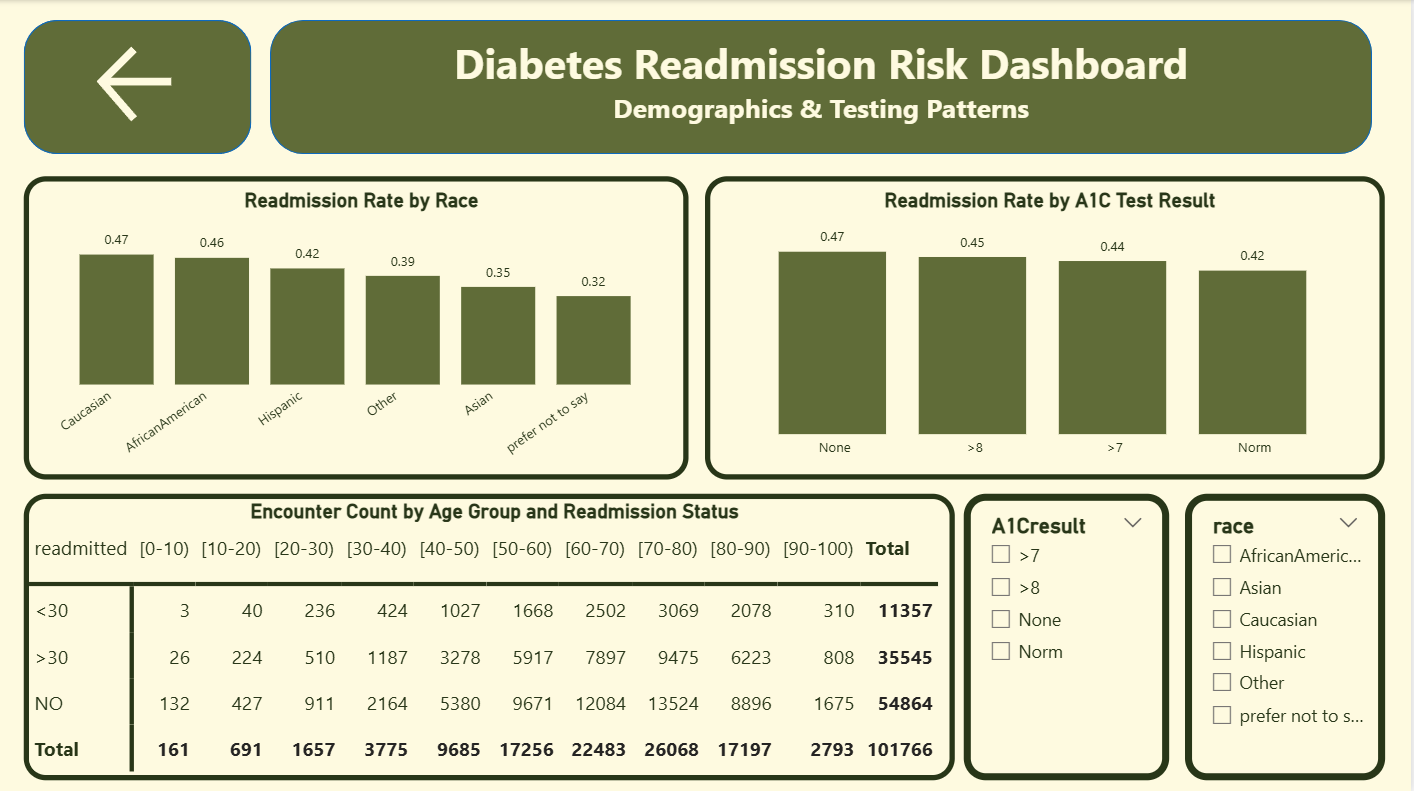

Layout of this report page (visuals, bound fields, positions):
{"tool":"powerbi","page":{"name":"Demographics & Testing Patterns","canvas":[1280,720],"ordinal":2},"visuals":[{"type":"shape","box":[245,18.3,1000,121.7],"z":0},{"type":"textbox","box":[385.6,27.4,719,98.8],"z":1000},{"type":"shape","box":[21.7,18.3,206.7,121.7],"z":2000},{"type":"actionButton","box":[56.7,36.7,135,80],"z":3000},{"type":"columnChart","title":"Readmission Rate by Race","fields":{"Y":["diabetic_data1.Readmission Rate"],"Category":["diabetic_data1.race"]},"box":[21.7,160,603.3,275],"z":4000},{"type":"columnChart","title":"Readmission Rate by A1C Test Result","fields":{"Y":["diabetic_data1.Readmission Rate"],"Category":["diabetic_data1.A1Cresult"]},"box":[640,160,616.7,275],"z":5000},{"type":"pivotTable","title":"Encounter Count by Age Group and Readmission Status","fields":{"Columns":["diabetic_data1.age"],"Rows":["diabetic_data1.readmitted"],"Values":["CountNonNull(diabetic_data1.encounter_id)"]},"box":[21.7,448.3,845,260],"z":6000},{"type":"slicer","fields":{"Values":["diabetic_data1.race"]},"box":[1075,448.3,181.7,260],"z":7000},{"type":"slicer","fields":{"Values":["diabetic_data1.A1Cresult"]},"box":[875,448.3,186.7,260],"z":8000}]}

Visuals, with their boxes in screenshot pixels (x1, y1, x2, y2), scaled from the page's 1280x720 canvas onto the 1414x791 screenshot:
shape: select_region(271, 20, 1375, 154)
textbox: select_region(426, 30, 1220, 139)
shape: select_region(24, 20, 252, 154)
actionButton: select_region(63, 40, 212, 128)
"Readmission Rate by Race" columnChart: select_region(24, 176, 690, 478)
"Readmission Rate by A1C Test Result" columnChart: select_region(707, 176, 1388, 478)
"Encounter Count by Age Group and Readmission Status" pivotTable: select_region(24, 493, 957, 778)
slicer - diabetic_data1.race: select_region(1188, 493, 1388, 778)
slicer - diabetic_data1.A1Cresult: select_region(967, 493, 1173, 778)
